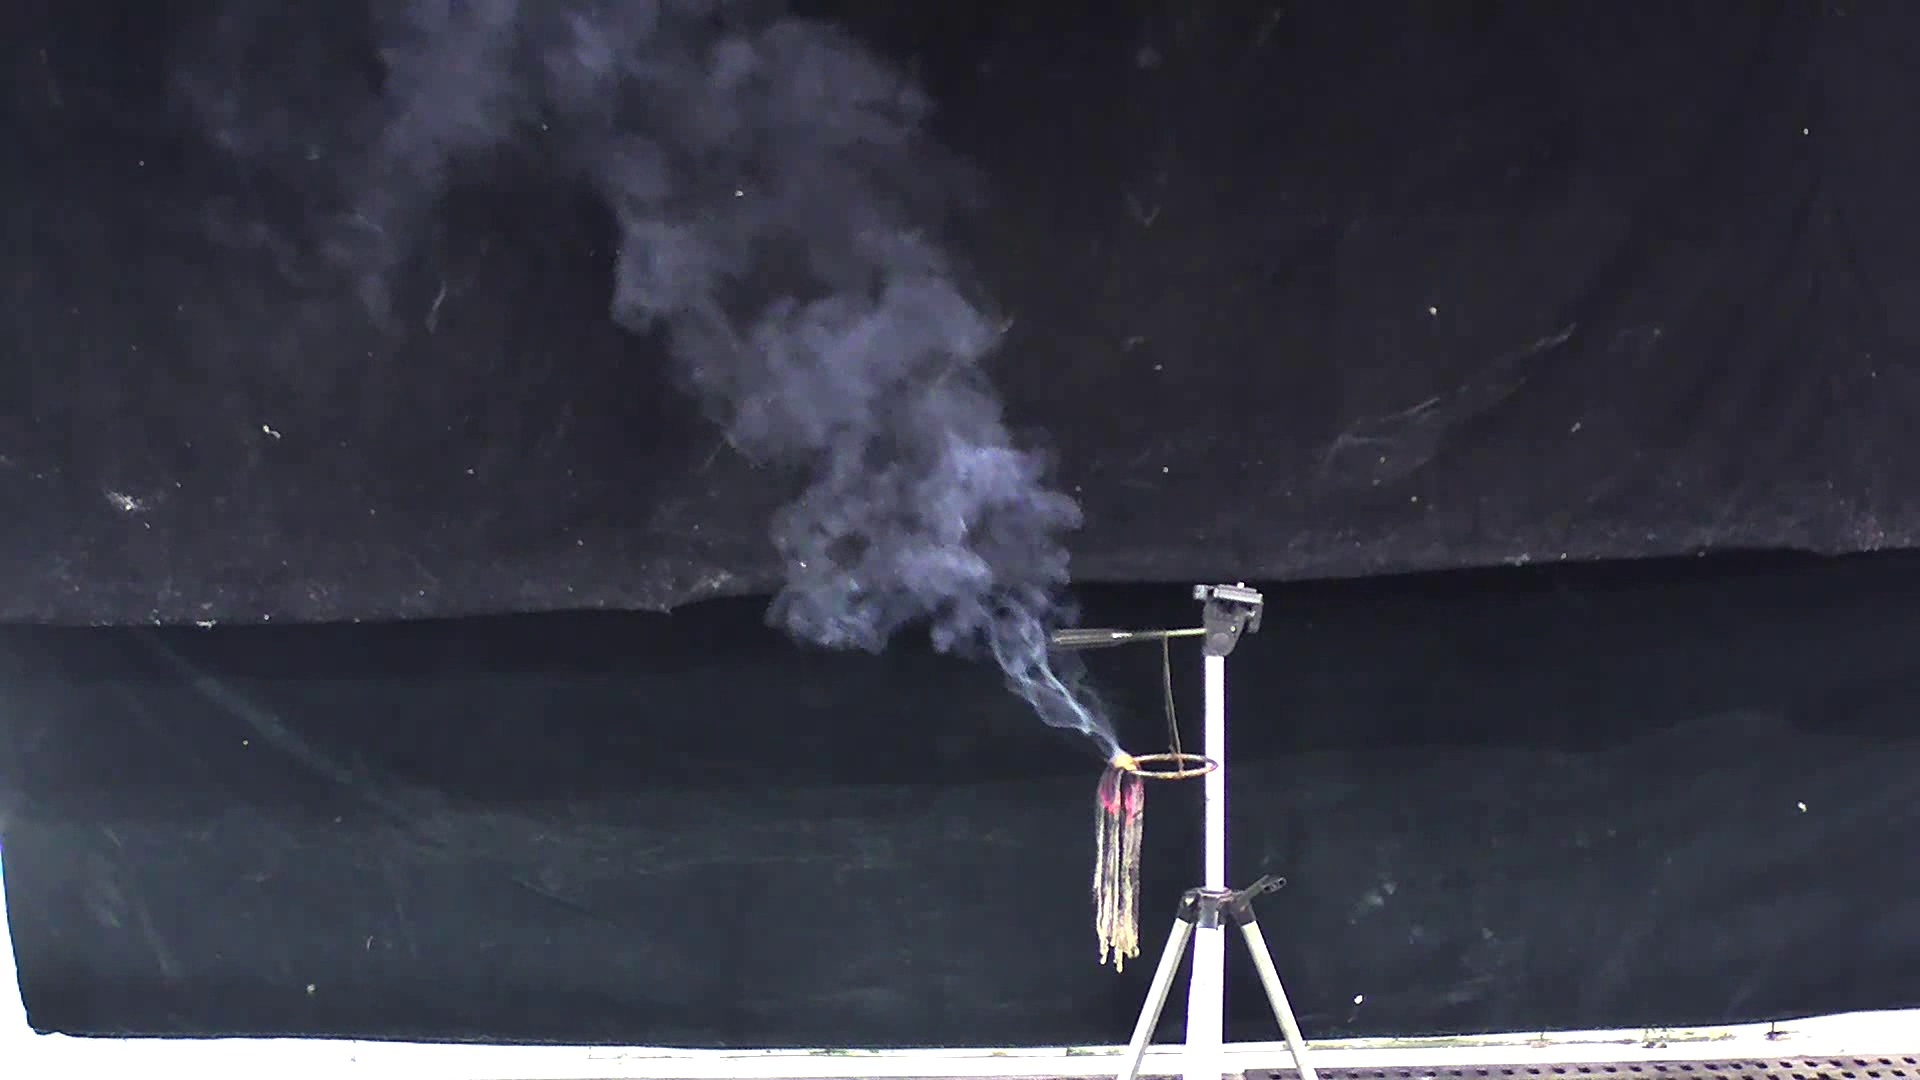smoke: (381, 7, 1113, 742)
